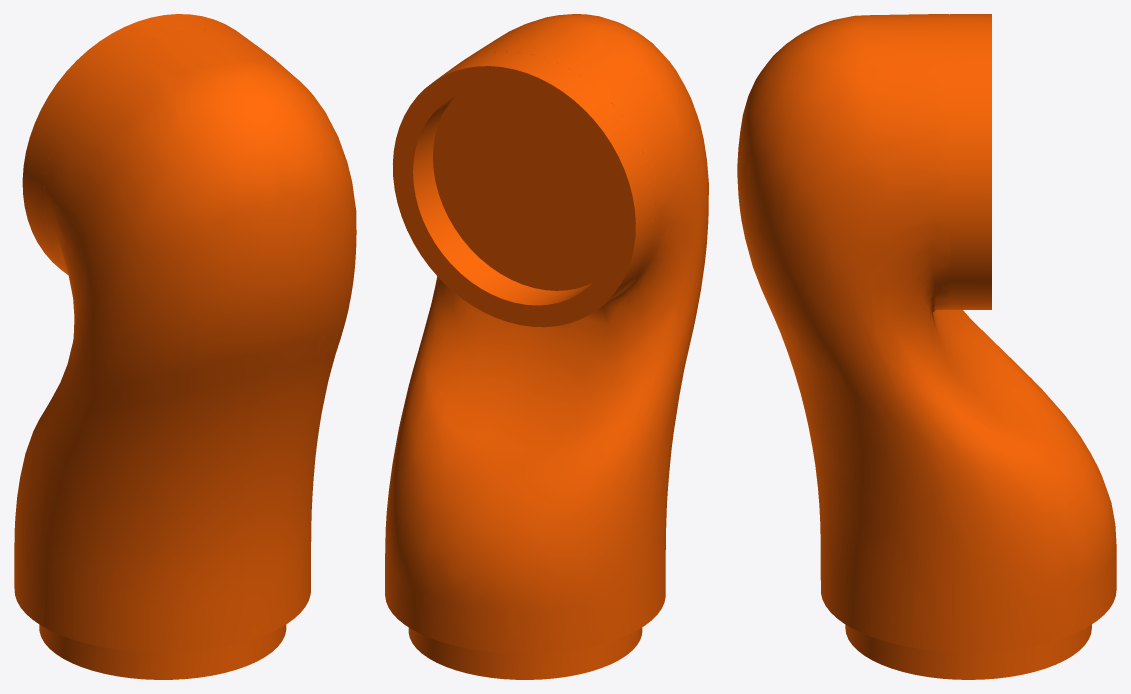
The model's file is kuka-link1.obj.
3 views of the same model, side by side, from view 1: azimuth 30°, elevation 25°; view 2: azimuth 150°, elevation 25°; view 3: azimuth 270°, elevation 25° (orthographic). The views are drawn at different scales.
Parts seen in each view (by area): view 1: LINK1_object.001_LINK1_object.003; view 2: LINK1_object.001_LINK1_object.003; view 3: LINK1_object.001_LINK1_object.003.
Boxes of the visible parts, x1=… form: LINK1_object.001_LINK1_object.003: x1=14, y1=14, x2=356, y2=679; LINK1_object.001_LINK1_object.003: x1=385, y1=14, x2=708, y2=679; LINK1_object.001_LINK1_object.003: x1=737, y1=14, x2=1116, y2=679.
Size of the model in its own units: 0.12 by 0.2685 by 0.1538.
